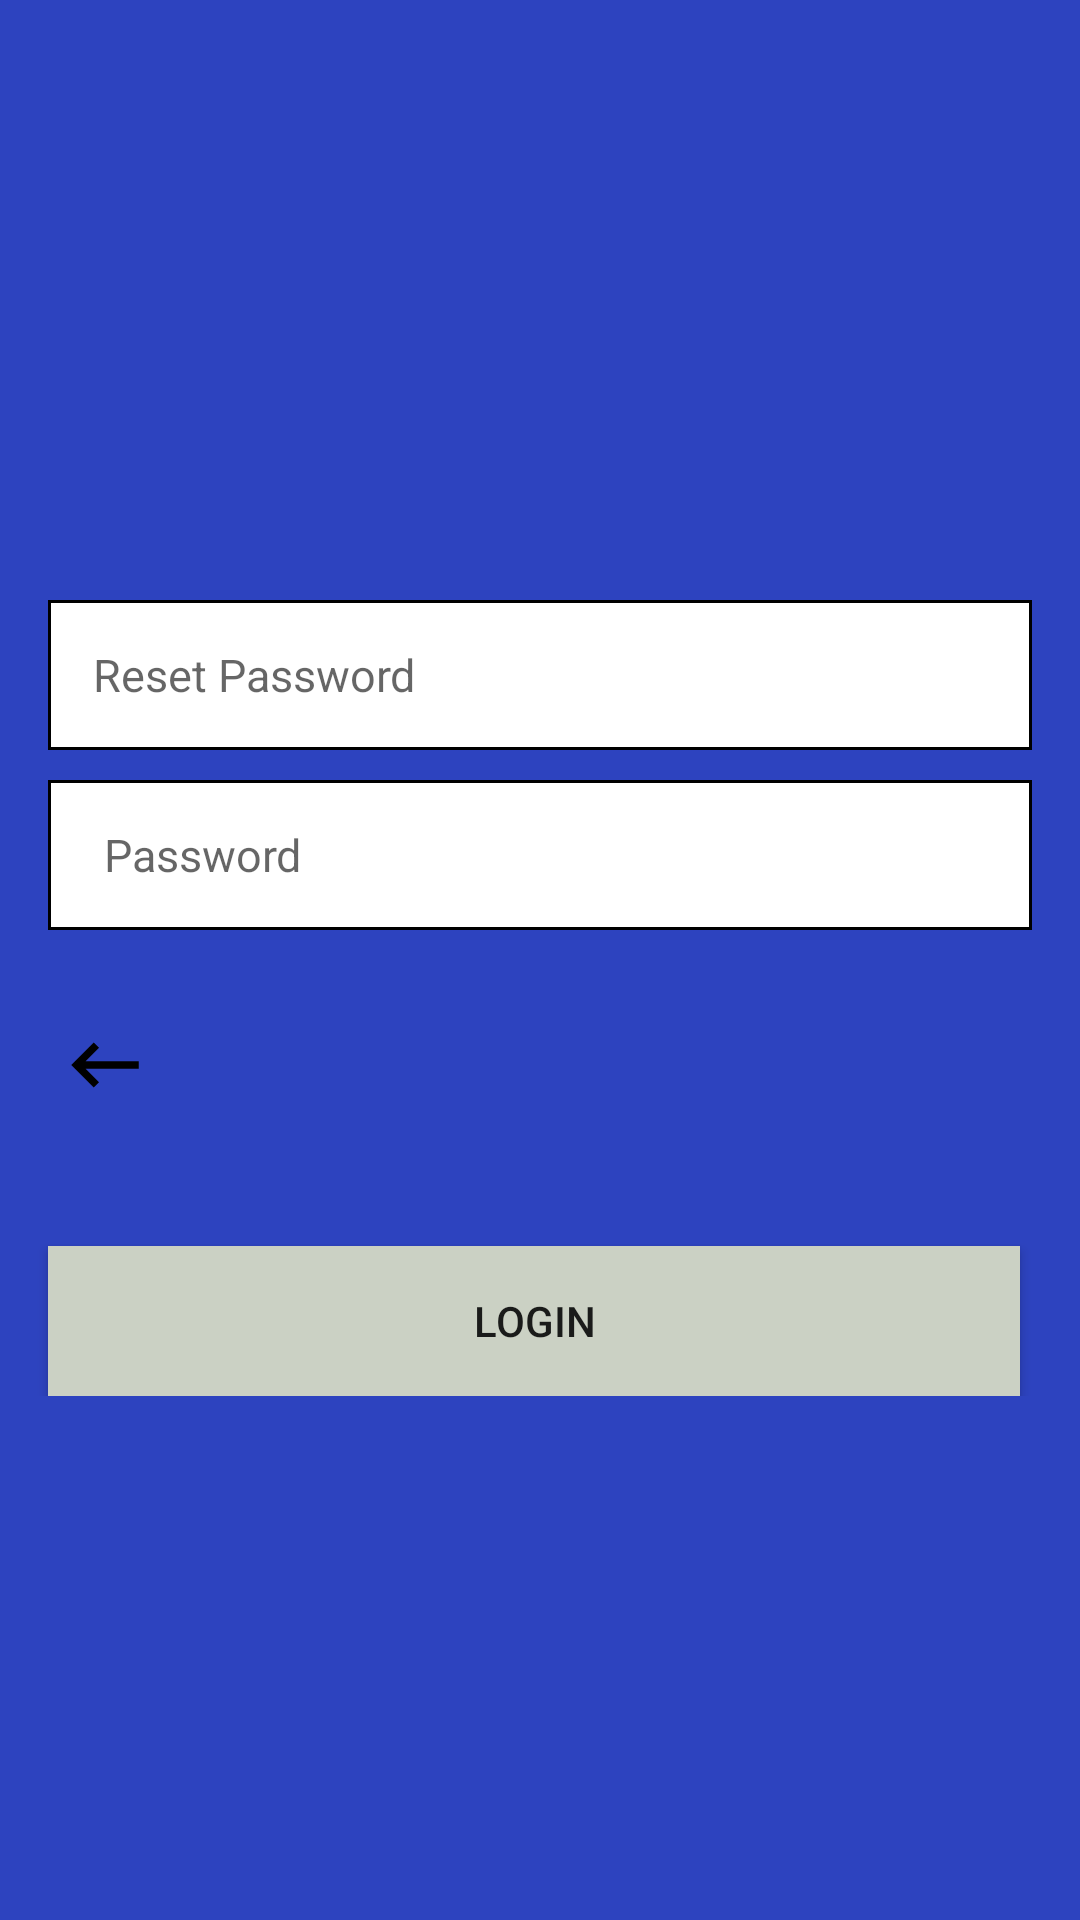

Locate icon controls on the screen. Image size 1080 × 1920, boxes as (x1,y1,x2,y2).
keyboard backspace: (71,1042,139,1088)
